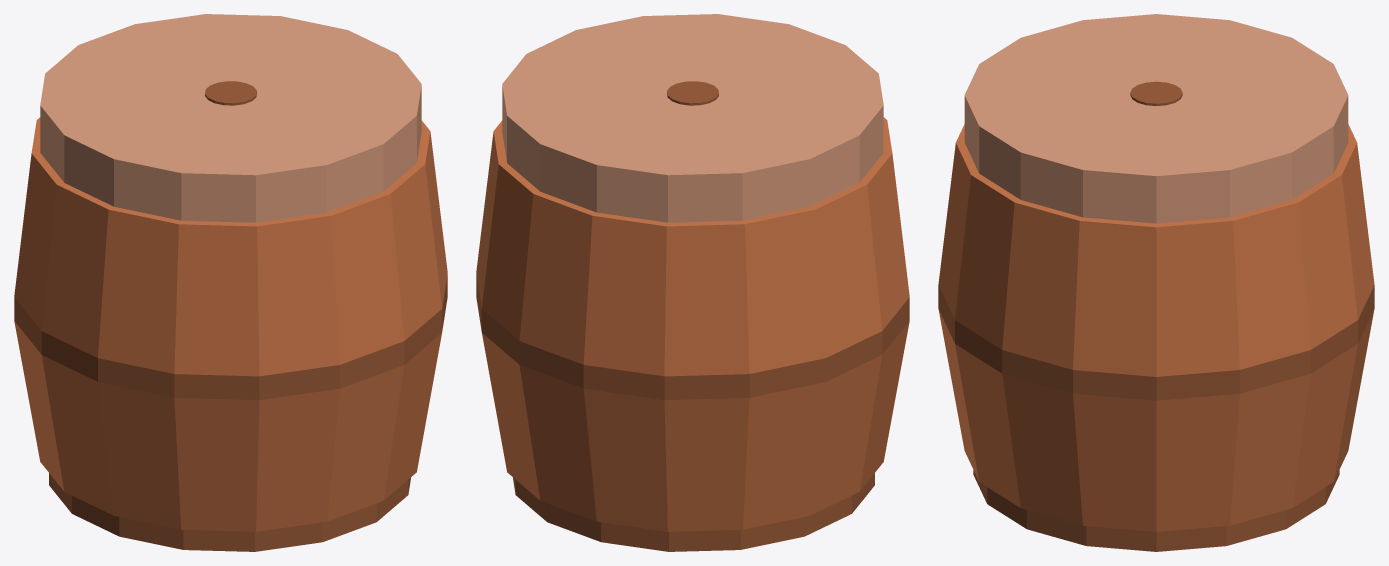
The model's file is puff.glb.
3 renders of one model, left to right at view 1: azimuth 30°, elevation 25°; view 2: azimuth 150°, elevation 25°; view 3: azimuth 270°, elevation 25°, orthographic.
Parts seen in each view (by area): view 1: puff_Body; view 2: puff_Body; view 3: puff_Body.
Part boxes in pixels (x1,y1,x2,y2): puff_Body: (14,14,447,551); puff_Body: (476,14,909,551); puff_Body: (938,14,1374,551).
Bounding box in the file's own units: 0.5 × 0.483 × 0.5.
